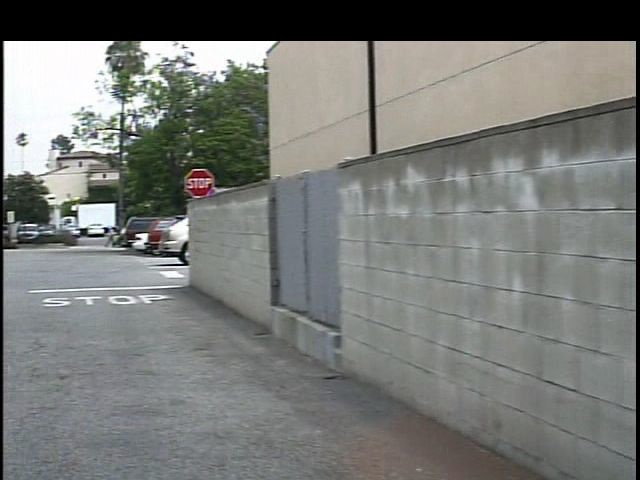person: (94, 226, 108, 252)
